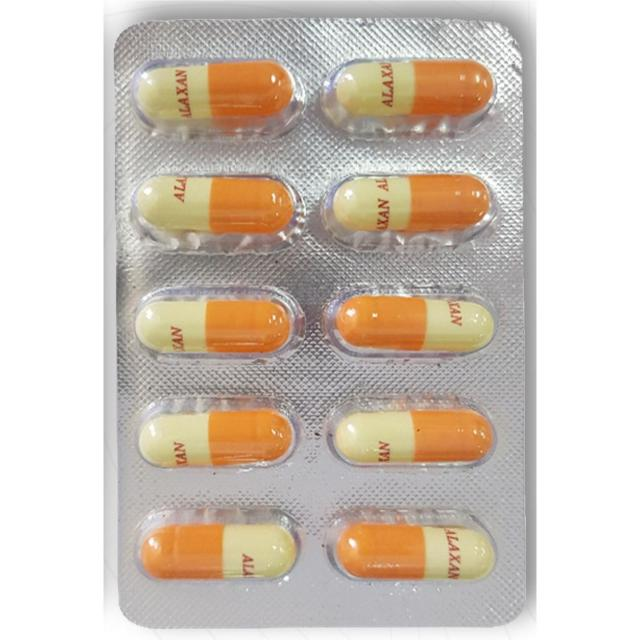blister: (110, 8, 532, 632)
